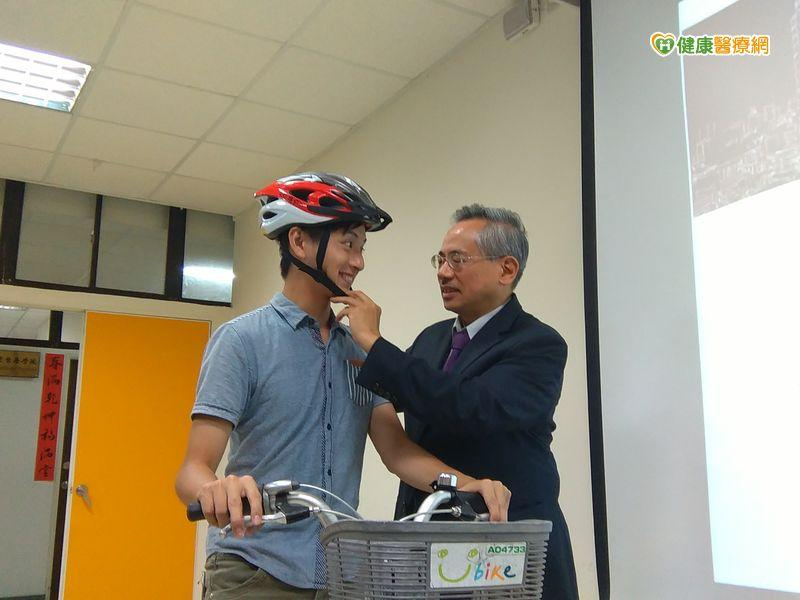helmet: (262, 172, 393, 234)
